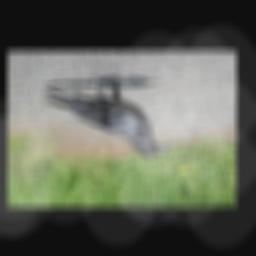Crow: (37, 73, 173, 158)
